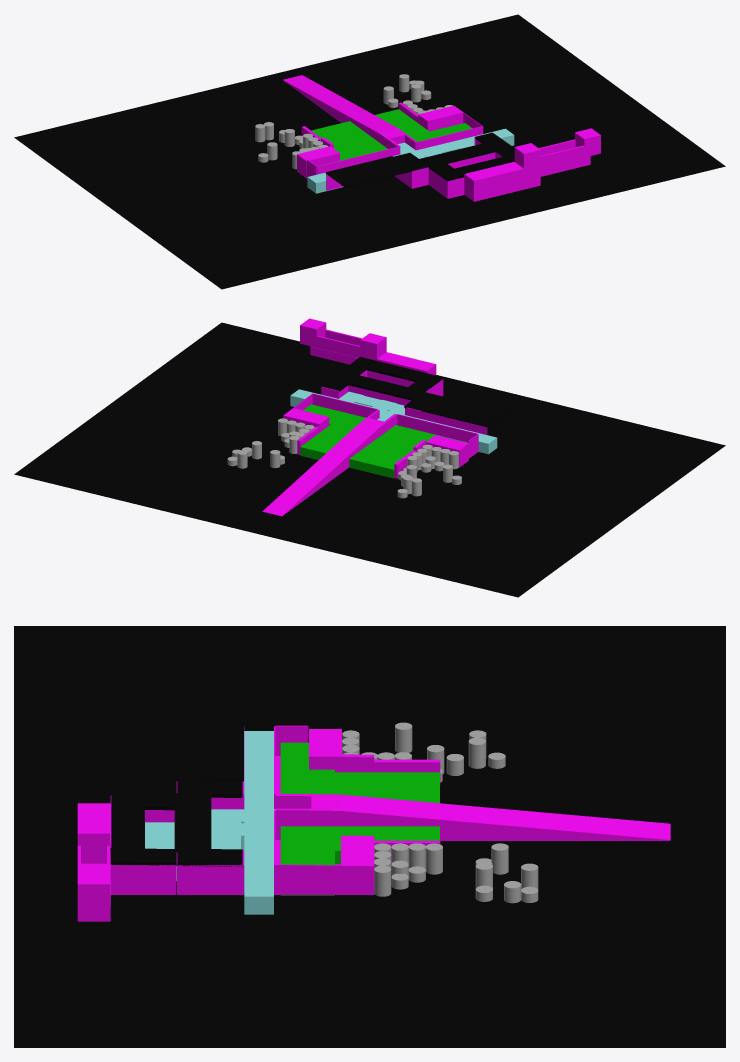
The model's file is forebay gltf.gltf.
The picture shows the model from 3 angles, top to bottom: view 1: azimuth 30°, elevation 25°; view 2: azimuth 150°, elevation 25°; view 3: azimuth 270°, elevation 25°; orthographic projection. The views are drawn at different scales.
Size of the model in its own units: 92.33 by 7.63 by 65.87.
